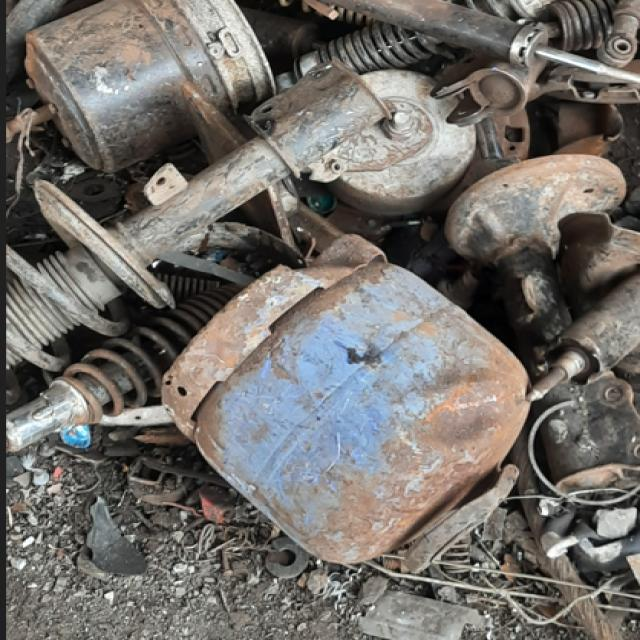cylinder: (162, 234, 530, 563)
shock absorber: (5, 59, 393, 376), (6, 280, 245, 454)
